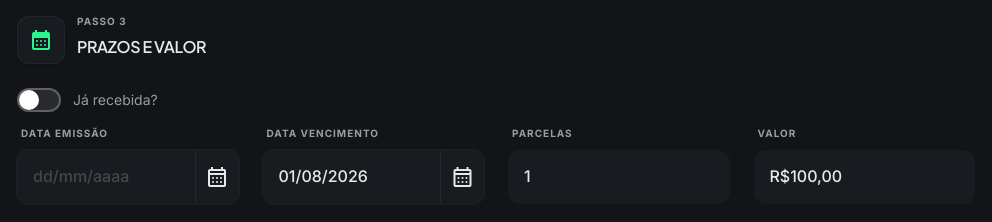
Test case: TermsValueSection › shows "Recebida" badge for moduloLabel=receber when toggled on
Click the switch at coordinates (39, 100), box left=17, top=88, right=61, bottom=112
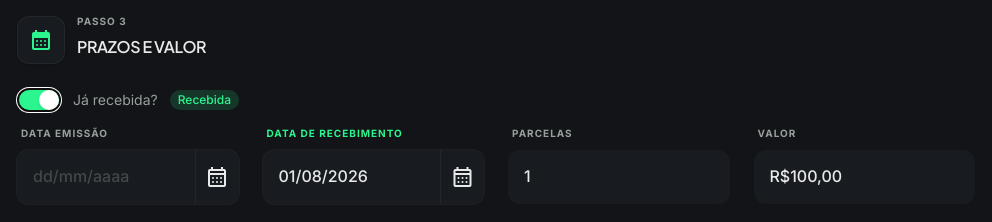
expect the text "Recebida" is shown: met, box left=170, top=90, right=239, bottom=110
expect the text "Data de Recebimento" is shown: met, box left=266, top=127, right=403, bottom=139
